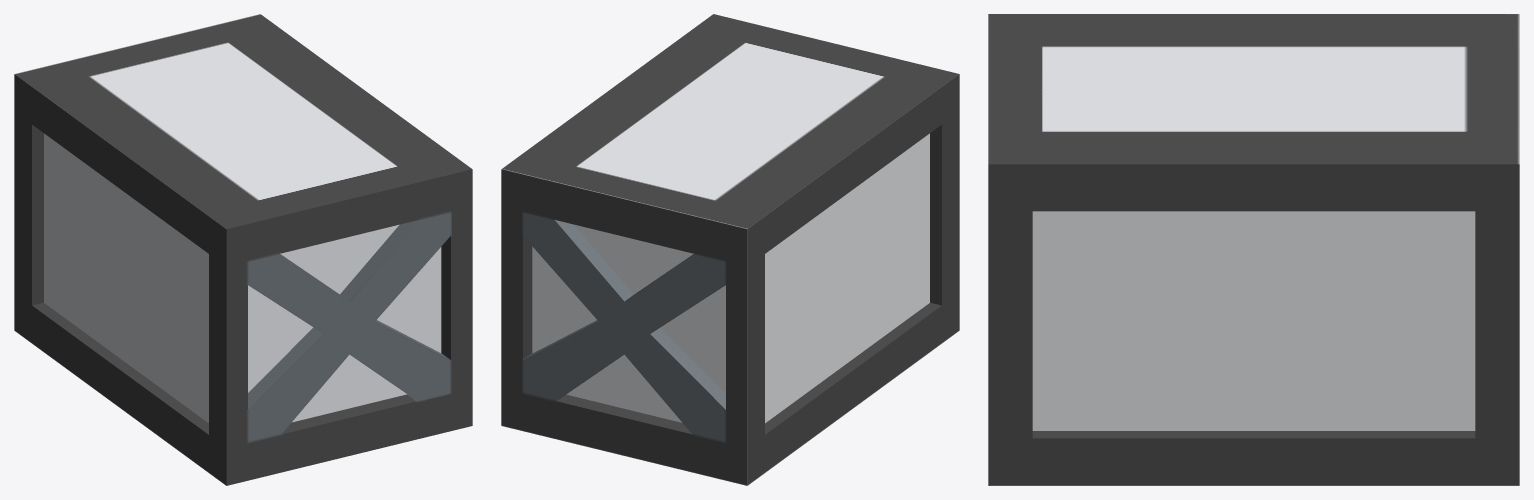
Rendered from Building_Platform_Square.fbx.
3 renders of one model, left to right at view 1: azimuth 30°, elevation 25°; view 2: azimuth 150°, elevation 25°; view 3: azimuth 270°, elevation 25°, orthographic. The views are drawn at different scales.
Visible parts, largest first — view 1: Platform_Square; view 2: Platform_Square; view 3: Platform_Square.
Part boxes in pixels (bbox=[...]): Platform_Square: bbox=[14, 14, 472, 485]; Platform_Square: bbox=[501, 14, 959, 485]; Platform_Square: bbox=[988, 14, 1519, 485].
Size of the model in its own units: 2.01 by 2 by 2.99.
2 materials, 2 textured.
